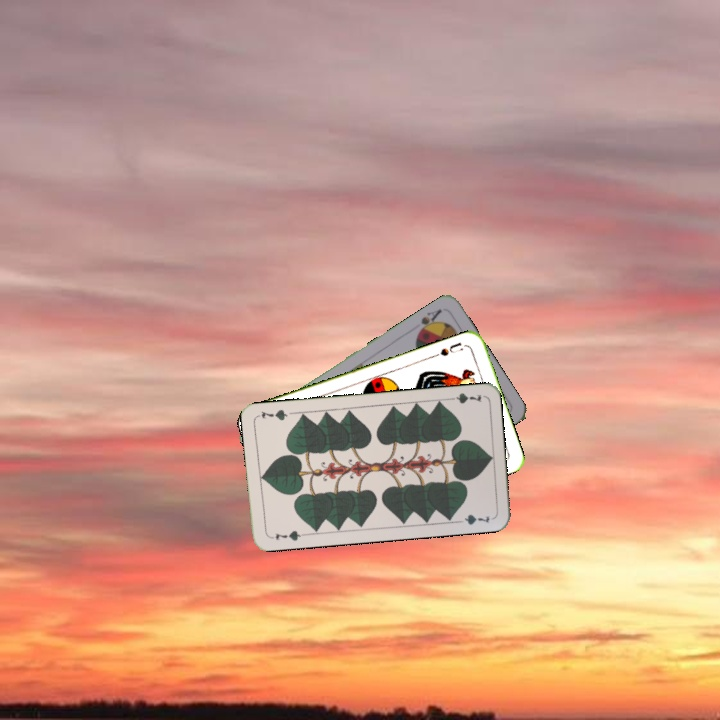G7: (443, 389, 484, 406), (271, 527, 307, 543)
SA: (413, 305, 445, 337)
SU: (429, 339, 469, 360)
